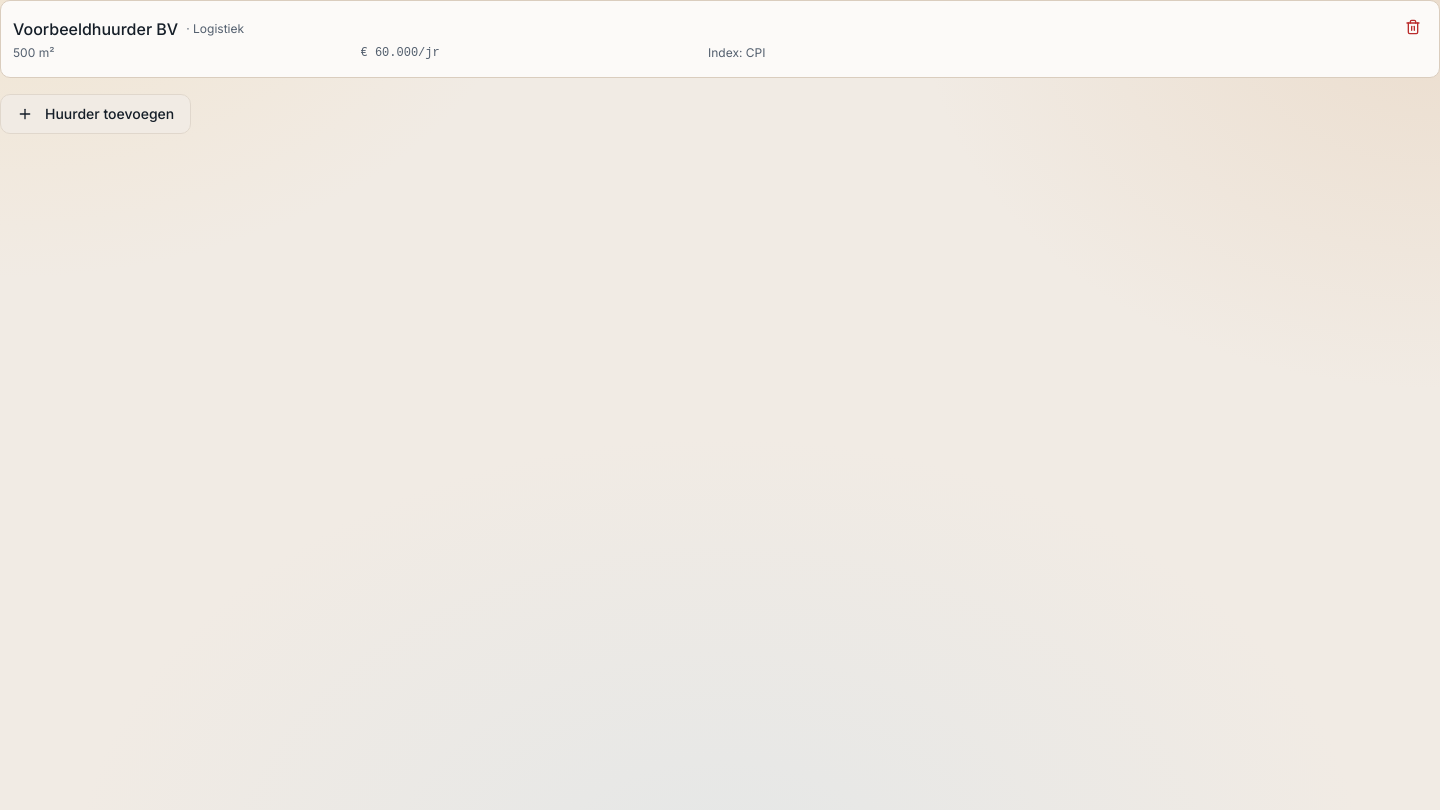
Test: Direct openen van persoon en huurder vanuit de samenvatting › opent het volledige huurcontractpaneel via de hele huurderssamenvatting
Expected: the button "Bewerken" is not shown
Click the button with aria-label "Wijzig huurder Voorbeeldhuurder BV".
click(96, 29)  # box [5, 13, 1395, 65]
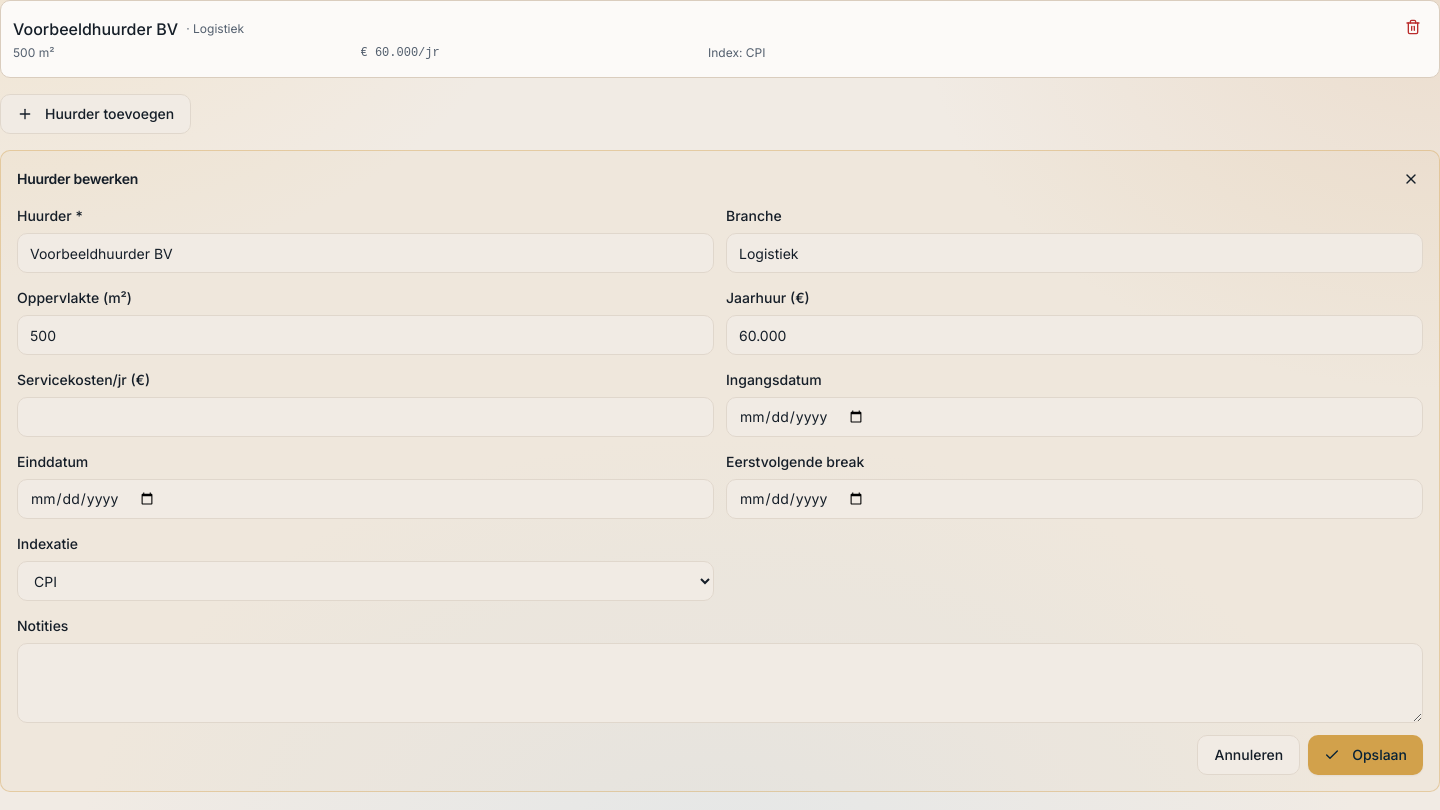
Expected: the button named "Verwijderen" is shown, [1399, 13, 1427, 41]
Expected: the heading "Huurder bewerken" is shown, [17, 169, 138, 189]
